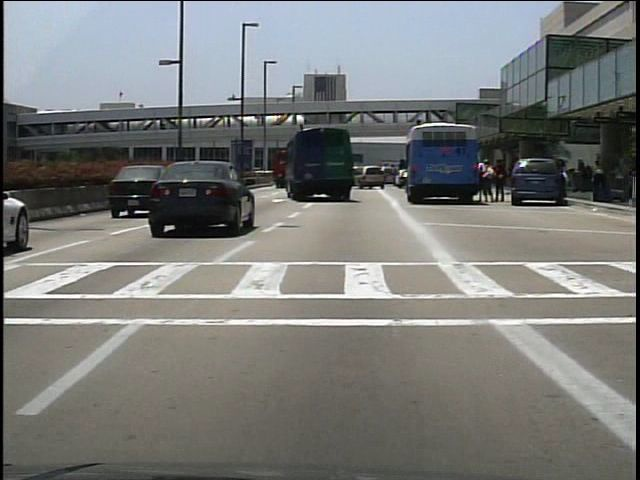person: (479, 157, 495, 204), (492, 160, 507, 205), (559, 164, 572, 203)
